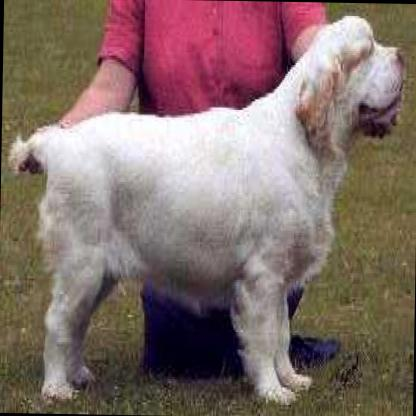clumber: (4, 0, 408, 404)
